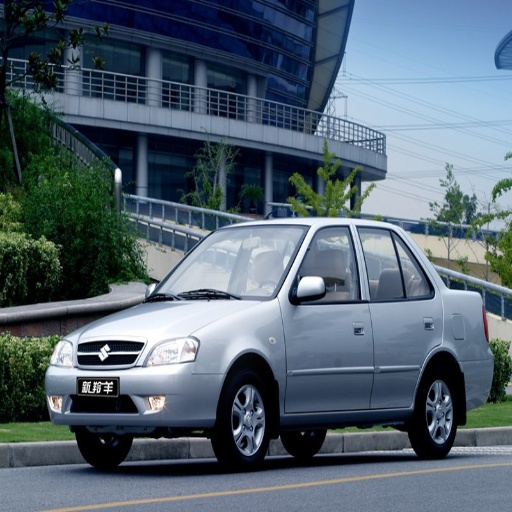back_left_door: (357, 225, 441, 407)
front_bumper: (46, 336, 225, 431)
front_glass: (146, 228, 308, 302)
front_left_door: (283, 226, 370, 412)
